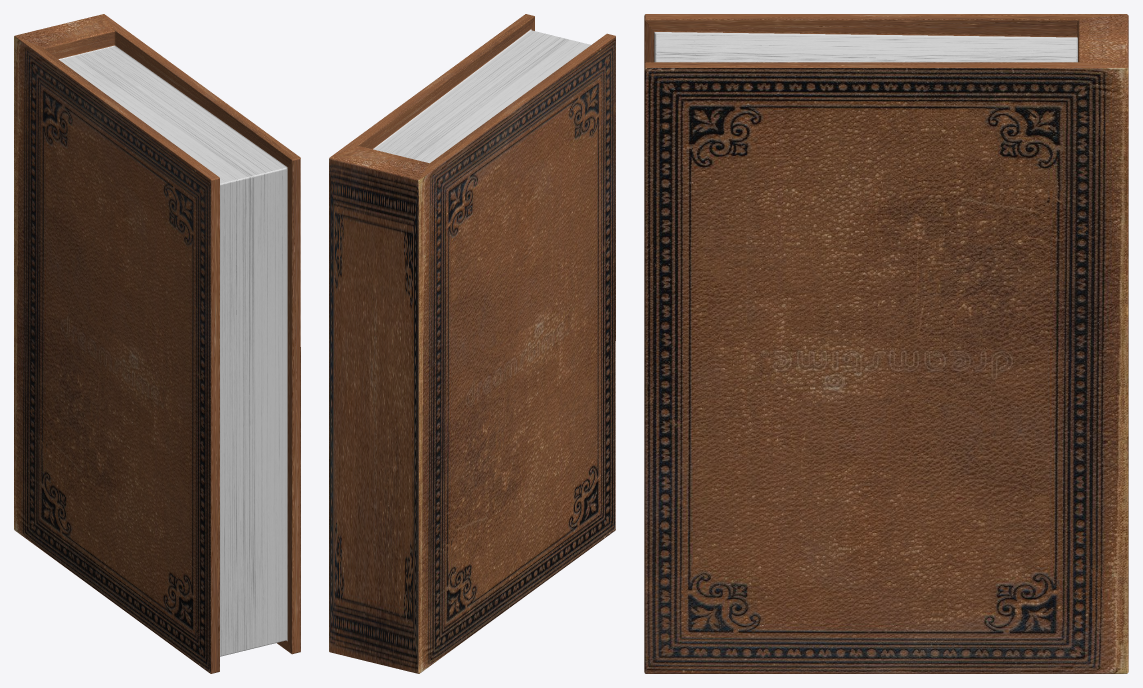
Rendered from PhoneBook(closed).fbx.
3 views of the same model, side by side, from view 1: azimuth 30°, elevation 25°; view 2: azimuth 150°, elevation 25°; view 3: azimuth 270°, elevation 25° (orthographic). The views are drawn at different scales.
Parts seen in each view (by area): view 1: Cube.036; view 2: Cube.036; view 3: Cube.036.
Part boxes in pixels (box(x1,y1,x2,y2)): Cube.036: box(14, 14, 300, 673); Cube.036: box(329, 14, 615, 673); Cube.036: box(644, 14, 1128, 673).
Bounding box in the file's own units: 24.05 × 126 × 90.93.
